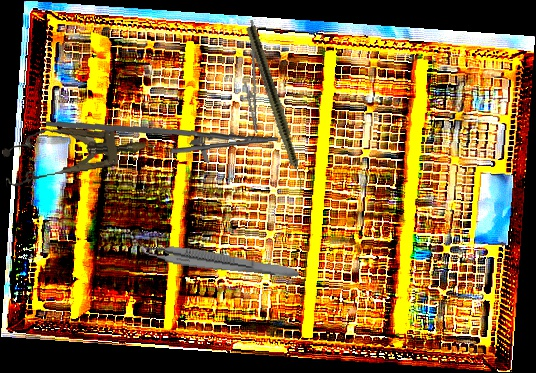Handpiece: (243, 24, 311, 197)
Needle Holder: (45, 107, 280, 173), (229, 19, 271, 135)
Speculum: (0, 117, 149, 190)
Tissue Forceps: (135, 239, 301, 280)
